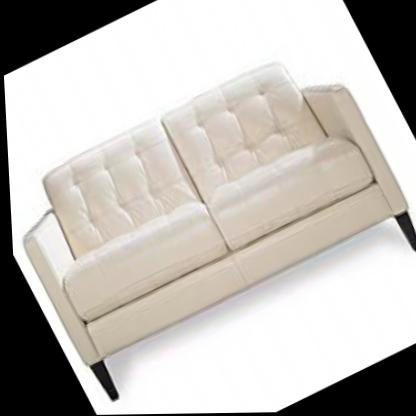Sofa: (1, 28, 416, 407)
